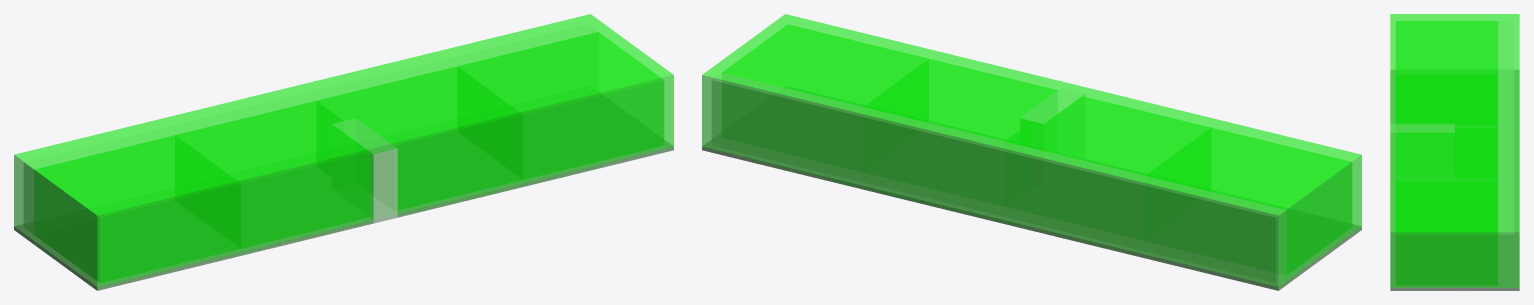
The model's file is AddCorridor.glb.
3 renders of one model, left to right at view 1: azimuth 30°, elevation 25°; view 2: azimuth 150°, elevation 25°; view 3: azimuth 270°, elevation 25°, orthographic. The views are drawn at different scales.
Parts seen in each view (by area): view 1: 7e5c00df-41a5-44d6-b700-208087e6de7c_mesh, 2d390302-3e1c-444f-8b8e-c47f21c6be0c_mesh, e3f68ddb-c5be-4075-a8de-009986d9d323_mesh, a652e167-b15a-42ad-a1e3-c75d8e7a2fc2_mesh, 33eb8edd-f90a-47c4-8213-35caaf3d9a00_mesh, d85af364-3500-4236-953c-78cb18c5e239_mesh, 51918859-3711-4f0d-923d-cde7201026fb_mesh, c0f15553-a120-4721-b801-58337e811494_mesh; view 2: 7e5c00df-41a5-44d6-b700-208087e6de7c_mesh, 51918859-3711-4f0d-923d-cde7201026fb_mesh, 2d390302-3e1c-444f-8b8e-c47f21c6be0c_mesh, e3f68ddb-c5be-4075-a8de-009986d9d323_mesh, a652e167-b15a-42ad-a1e3-c75d8e7a2fc2_mesh, d85af364-3500-4236-953c-78cb18c5e239_mesh, 33eb8edd-f90a-47c4-8213-35caaf3d9a00_mesh, c0f15553-a120-4721-b801-58337e811494_mesh; view 3: 7e5c00df-41a5-44d6-b700-208087e6de7c_mesh, 2d390302-3e1c-444f-8b8e-c47f21c6be0c_mesh, a652e167-b15a-42ad-a1e3-c75d8e7a2fc2_mesh, e3f68ddb-c5be-4075-a8de-009986d9d323_mesh, d85af364-3500-4236-953c-78cb18c5e239_mesh, 33eb8edd-f90a-47c4-8213-35caaf3d9a00_mesh, 51918859-3711-4f0d-923d-cde7201026fb_mesh, c0f15553-a120-4721-b801-58337e811494_mesh.
Part boxes in pixels (left/top/right/bottom): 7e5c00df-41a5-44d6-b700-208087e6de7c_mesh: left=14, top=14, right=673, bottom=290; 2d390302-3e1c-444f-8b8e-c47f21c6be0c_mesh: left=14, top=93, right=673, bottom=290; e3f68ddb-c5be-4075-a8de-009986d9d323_mesh: left=34, top=135, right=240, bottom=282; a652e167-b15a-42ad-a1e3-c75d8e7a2fc2_mesh: left=458, top=32, right=663, bottom=179; 33eb8edd-f90a-47c4-8213-35caaf3d9a00_mesh: left=176, top=101, right=369, bottom=248; d85af364-3500-4236-953c-78cb18c5e239_mesh: left=317, top=67, right=522, bottom=209; 51918859-3711-4f0d-923d-cde7201026fb_mesh: left=24, top=25, right=597, bottom=234; c0f15553-a120-4721-b801-58337e811494_mesh: left=333, top=118, right=397, bottom=223; 7e5c00df-41a5-44d6-b700-208087e6de7c_mesh: left=702, top=14, right=1361, bottom=289; 51918859-3711-4f0d-923d-cde7201026fb_mesh: left=712, top=73, right=1286, bottom=282; 2d390302-3e1c-444f-8b8e-c47f21c6be0c_mesh: left=702, top=86, right=1361, bottom=290; e3f68ddb-c5be-4075-a8de-009986d9d323_mesh: left=1146, top=128, right=1351, bottom=274; a652e167-b15a-42ad-a1e3-c75d8e7a2fc2_mesh: left=722, top=25, right=927, bottom=106; d85af364-3500-4236-953c-78cb18c5e239_mesh: left=864, top=59, right=1057, bottom=140; 33eb8edd-f90a-47c4-8213-35caaf3d9a00_mesh: left=1005, top=96, right=1210, bottom=175; c0f15553-a120-4721-b801-58337e811494_mesh: left=1021, top=88, right=1085, bottom=123; 7e5c00df-41a5-44d6-b700-208087e6de7c_mesh: left=1390, top=14, right=1519, bottom=290; 2d390302-3e1c-444f-8b8e-c47f21c6be0c_mesh: left=1390, top=70, right=1519, bottom=290; a652e167-b15a-42ad-a1e3-c75d8e7a2fc2_mesh: left=1396, top=182, right=1497, bottom=285; e3f68ddb-c5be-4075-a8de-009986d9d323_mesh: left=1396, top=21, right=1497, bottom=74; d85af364-3500-4236-953c-78cb18c5e239_mesh: left=1396, top=128, right=1497, bottom=181; 33eb8edd-f90a-47c4-8213-35caaf3d9a00_mesh: left=1396, top=75, right=1497, bottom=127; 51918859-3711-4f0d-923d-cde7201026fb_mesh: left=1498, top=21, right=1513, bottom=285; c0f15553-a120-4721-b801-58337e811494_mesh: left=1390, top=124, right=1454, bottom=182.
Size of the model in its own units: 48 by 6 by 12.01.
